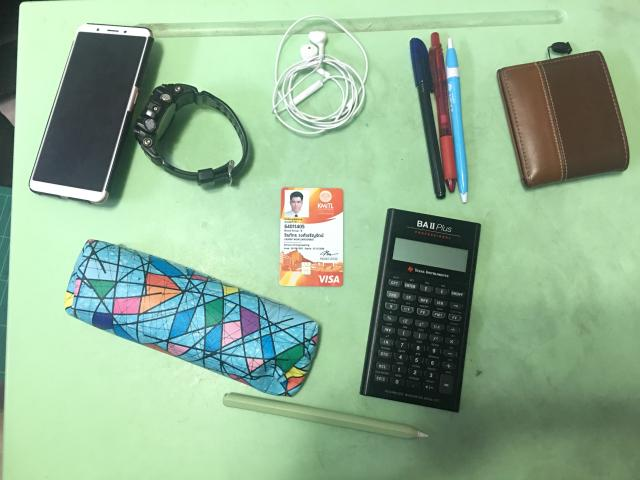Mobile phone: (30, 24, 152, 202)
Pen: (410, 38, 445, 199), (429, 32, 458, 192), (446, 39, 468, 202)
Wallet: (498, 51, 629, 188)
Watch: (135, 84, 249, 185)
wire: (272, 15, 368, 135)
